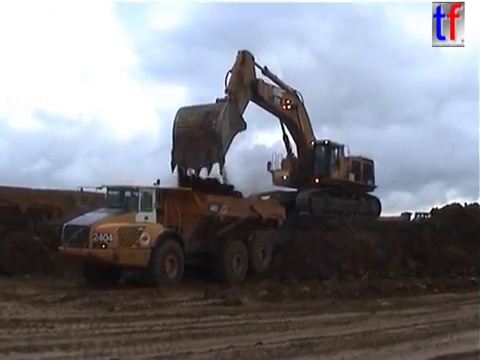excavator: (167, 47, 386, 221)
truck: (55, 176, 289, 289), (1, 183, 156, 280), (367, 207, 438, 235)
